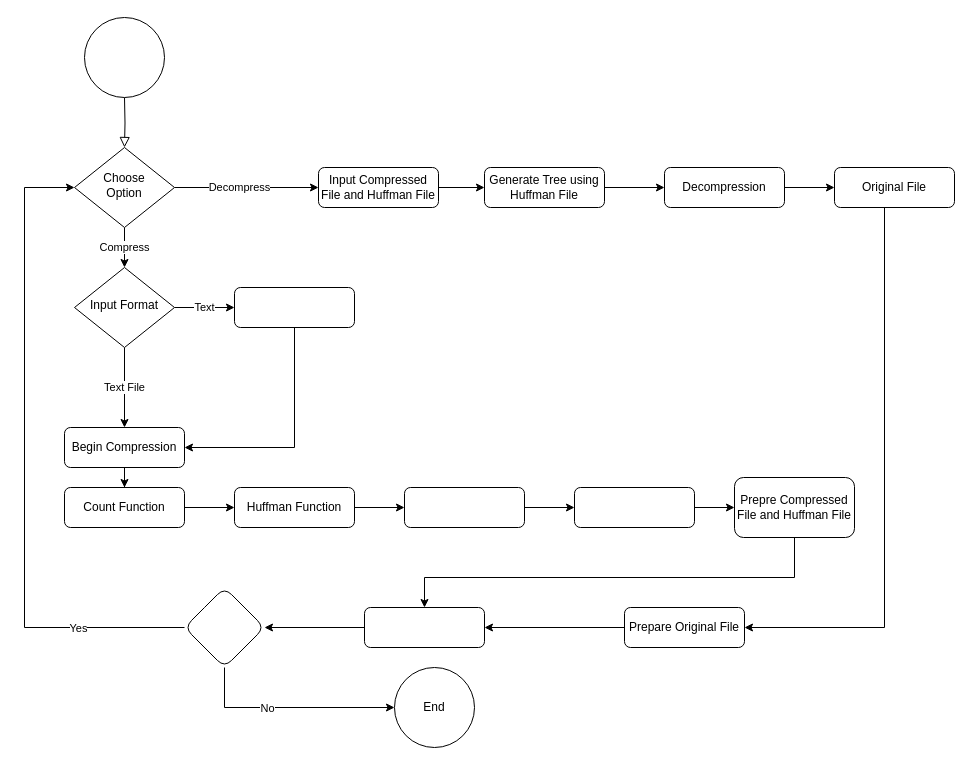
Some shapes in this 972 by 765 pixel diagram are drawn without their labels. Here are the shapes that lost their labels. From the top down, the box of each, then its label:
(84, 16, 164, 98): Begin
(234, 286, 354, 328): Convert to Text File
(404, 486, 524, 528): Compression
(574, 486, 694, 528): Compressed File Ready
(184, 586, 264, 668): Another File
(364, 606, 484, 648): Download File
